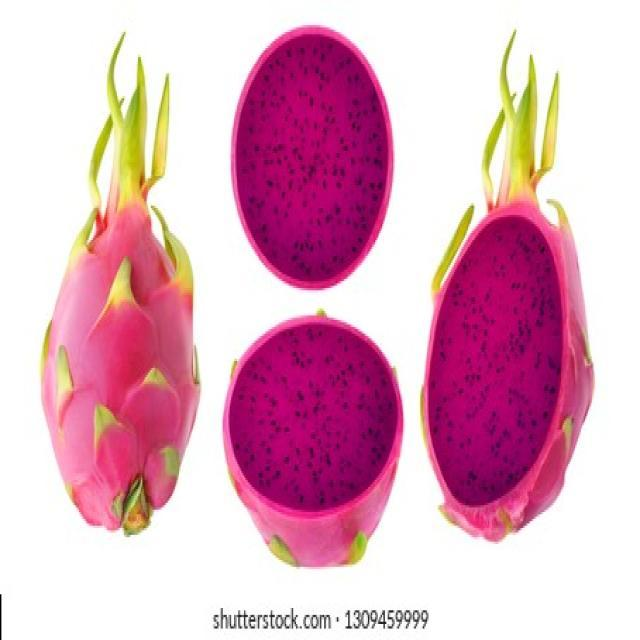dragon-fruit: (420, 203, 596, 544), (38, 203, 203, 533), (220, 314, 406, 570), (228, 23, 397, 293)
